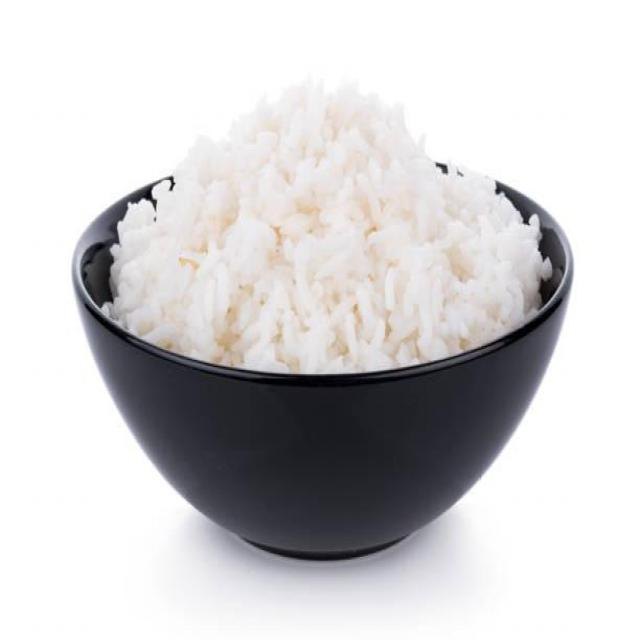rice: (110, 90, 548, 368)
